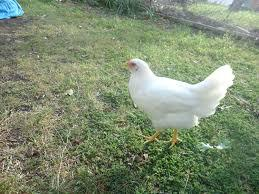Healthy: (122, 49, 242, 154)
